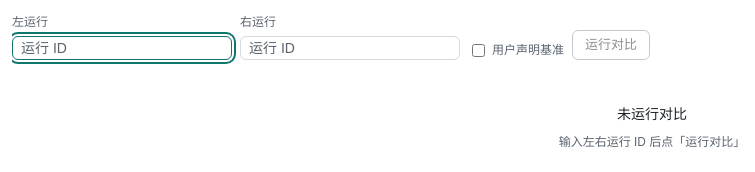
Scenario: §9.1 RunSelector 交互 › runs 为空 → 显示 no-runs 提示
The width and height of the screenshot is (755, 172).
Focus the field labelled "左运行" at (122, 48), box [12,36,232,60]
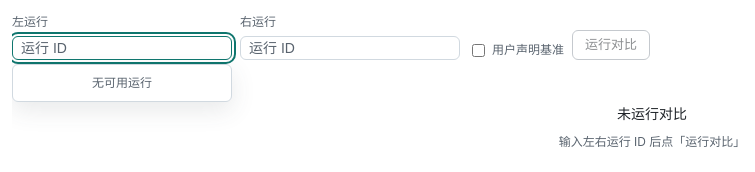
Result: the message "无可用运行" is shown at [12,64,232,102]
